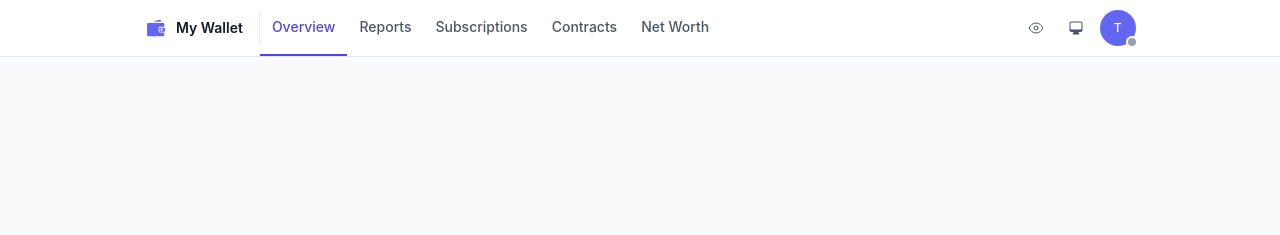
Test: NavBar › shows only email in dropdown header when fullName is null
The width and height of the screenshot is (1280, 235).
Expected: the link "Overview" is shown, [260,0,347,56]
Click the button named "User menu". click: (1118,28)
box: [1100,10,1136,46]
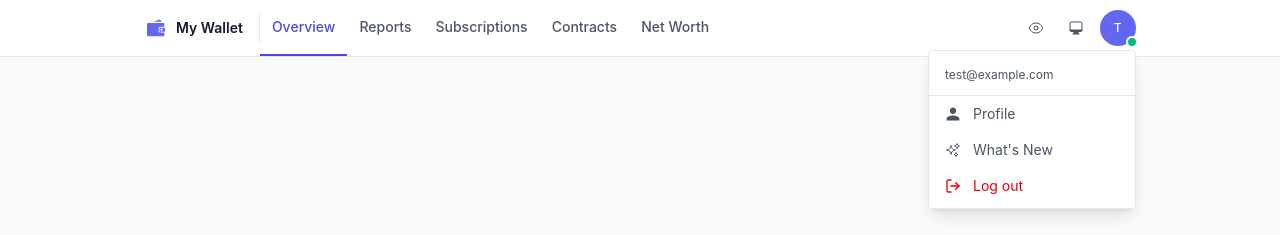
Expected: the text "test@example.com" is shown, [945,67,1054,82]
